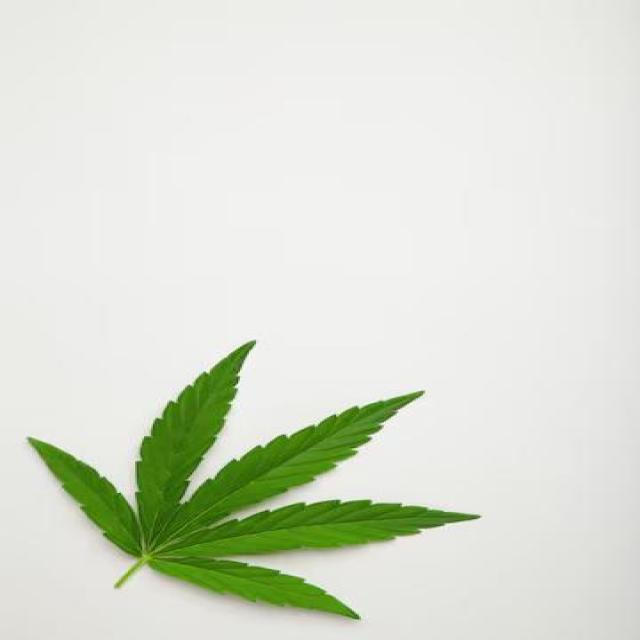cannabis: (25, 341, 476, 623)
